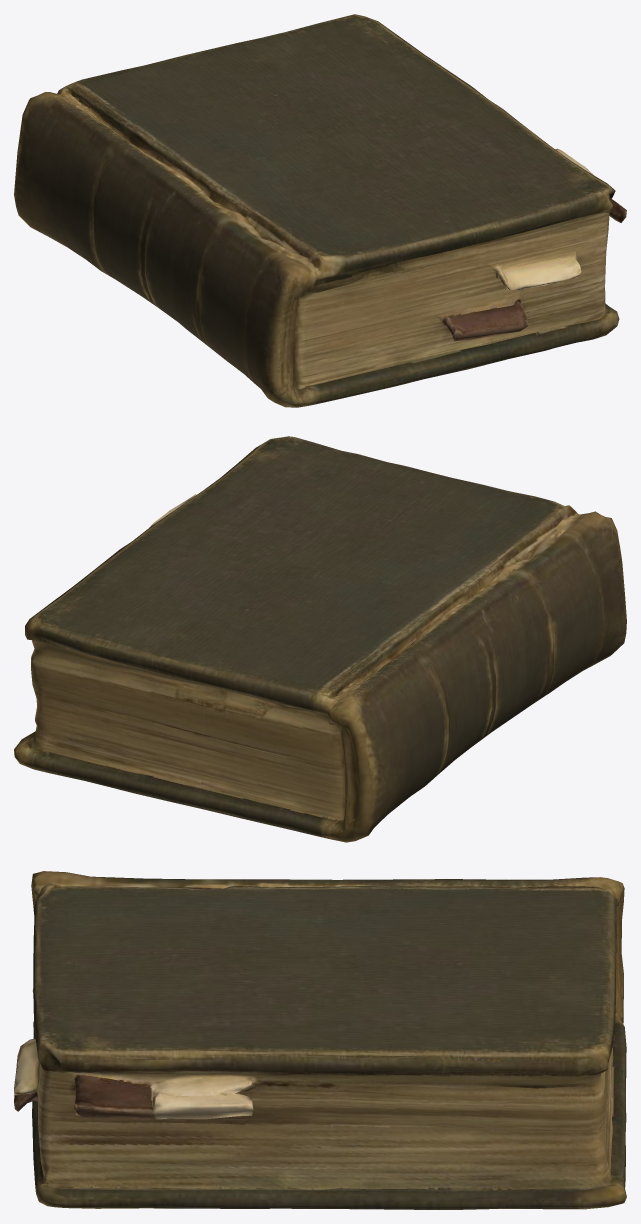
Rendered from handbook.glb.
The picture shows the model from 3 angles, top to bottom: view 1: azimuth 30°, elevation 25°; view 2: azimuth 150°, elevation 25°; view 3: azimuth 270°, elevation 25°; orthographic projection. The views are drawn at different scales.
Parts seen in each view (by area): view 1: Mesh_0; view 2: Mesh_0; view 3: Mesh_0.
Part boxes in pixels (left/top/right/bottom): Mesh_0: left=14, top=14, right=626, bottom=407; Mesh_0: left=14, top=436, right=626, bottom=842; Mesh_0: left=14, top=871, right=626, bottom=1209.
Bounding box in the file's own units: 0.8261 × 0.3015 × 1.
Materials: 1 (1 with a texture image).
